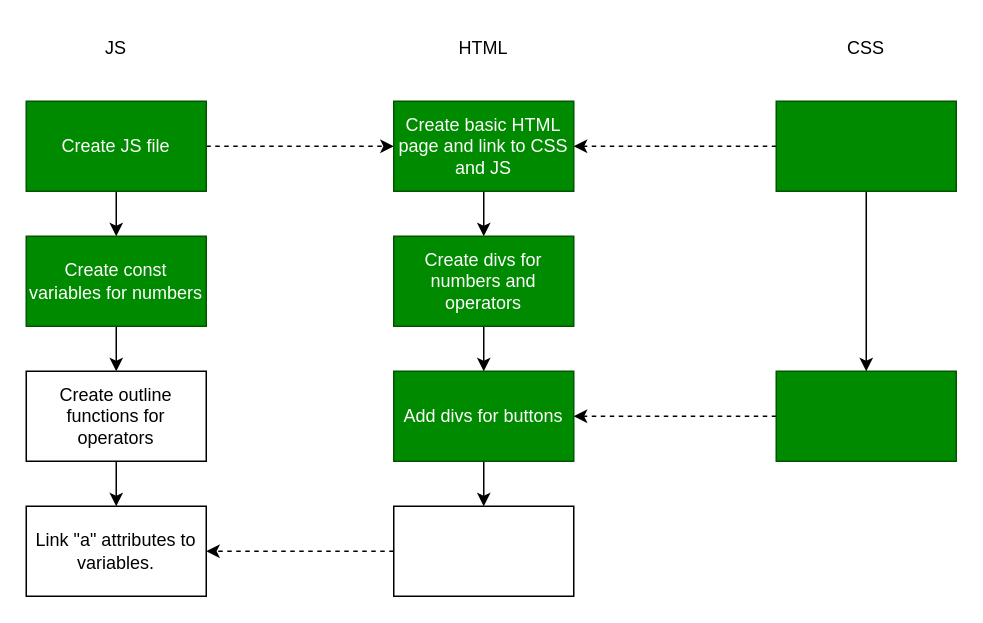
Some shapes in this 983 by 623 pixel diagram are drawn without their labels. The shapes that lost their labels are listed below. From the top down, each one's box as (x1, y1, x2, y2) in pixels, then its label:
(775, 100, 956, 191): Create CSS file
(775, 370, 956, 461): Format divs in shape using display.
(392, 505, 574, 596): Give buttons an 'a' attribute
